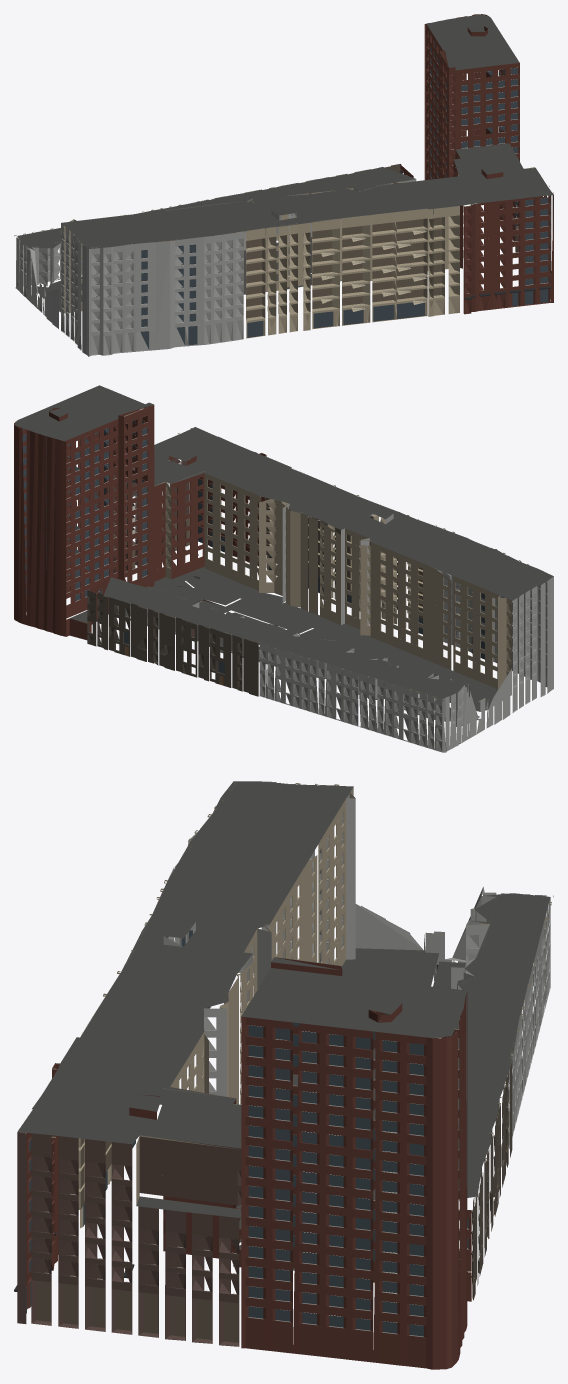
File: rinus-michelslaan-1.lod1.glb
3 views of the same model, one above another, from view 1: azimuth 30°, elevation 25°; view 2: azimuth 150°, elevation 25°; view 3: azimuth 270°, elevation 25° (orthographic). The views are drawn at different scales.
Visible parts, largest first — view 1: rinus-michelslaan-1; view 2: rinus-michelslaan-1; view 3: rinus-michelslaan-1.
Boxes of the visible parts, left/top/right/bottom form: rinus-michelslaan-1: left=14, top=14, right=553, bottom=356; rinus-michelslaan-1: left=14, top=385, right=553, bottom=752; rinus-michelslaan-1: left=14, top=781, right=553, bottom=1369.
Bounding box in the file's own units: 127 × 50.71 × 73.12.
